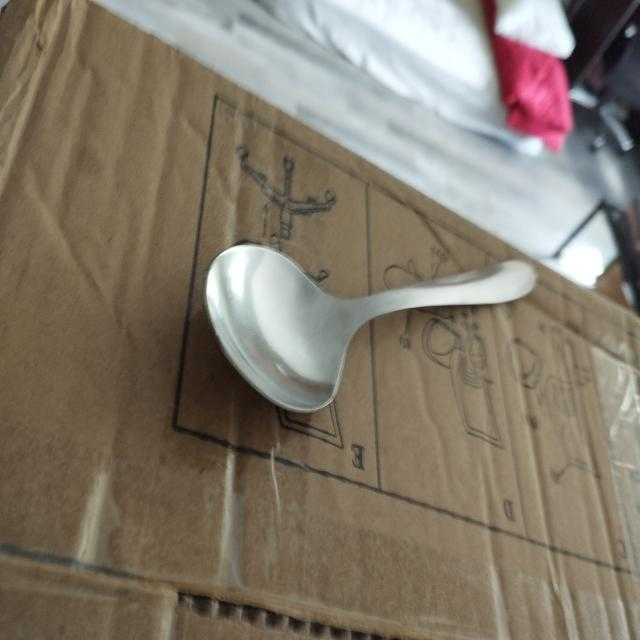Spoon: (170, 234, 556, 436)
